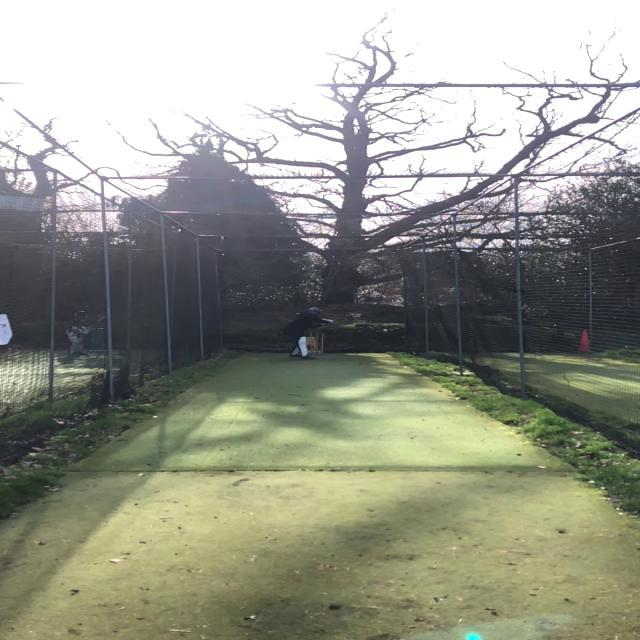ball: (383, 328, 388, 332)
